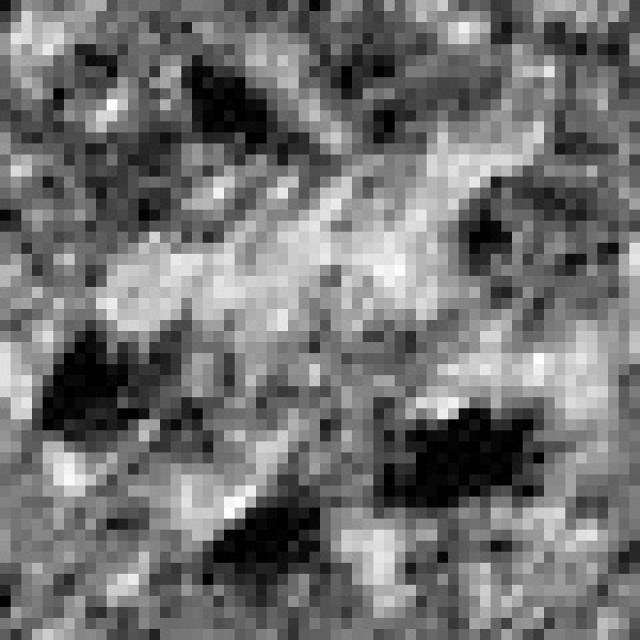inner: (212, 159, 476, 454)
lobe: (60, 51, 307, 255), (28, 318, 227, 495), (442, 169, 631, 349), (306, 12, 508, 157), (166, 481, 358, 614), (357, 408, 580, 517)
outer: (0, 0, 640, 640)
